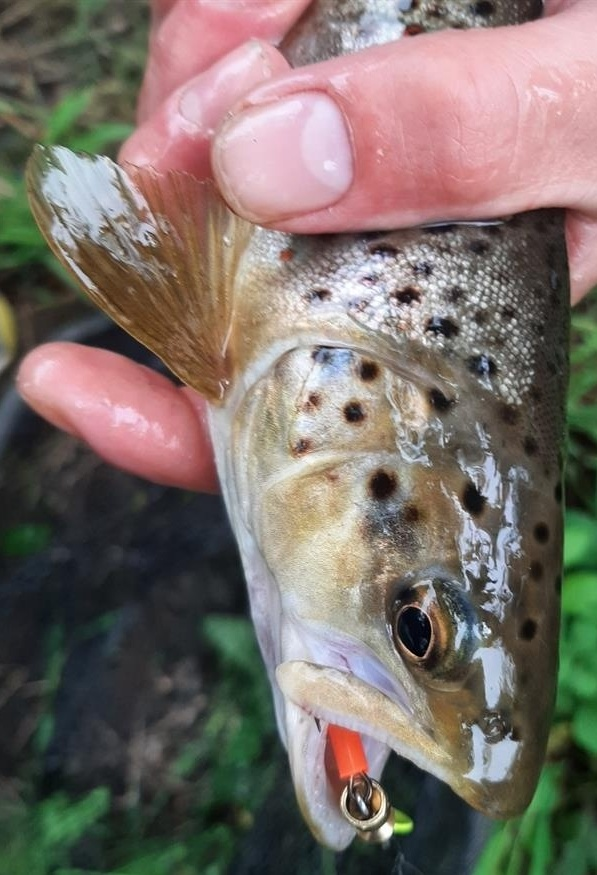Salmo trutta subsp. fario: (20, 1, 577, 855)
